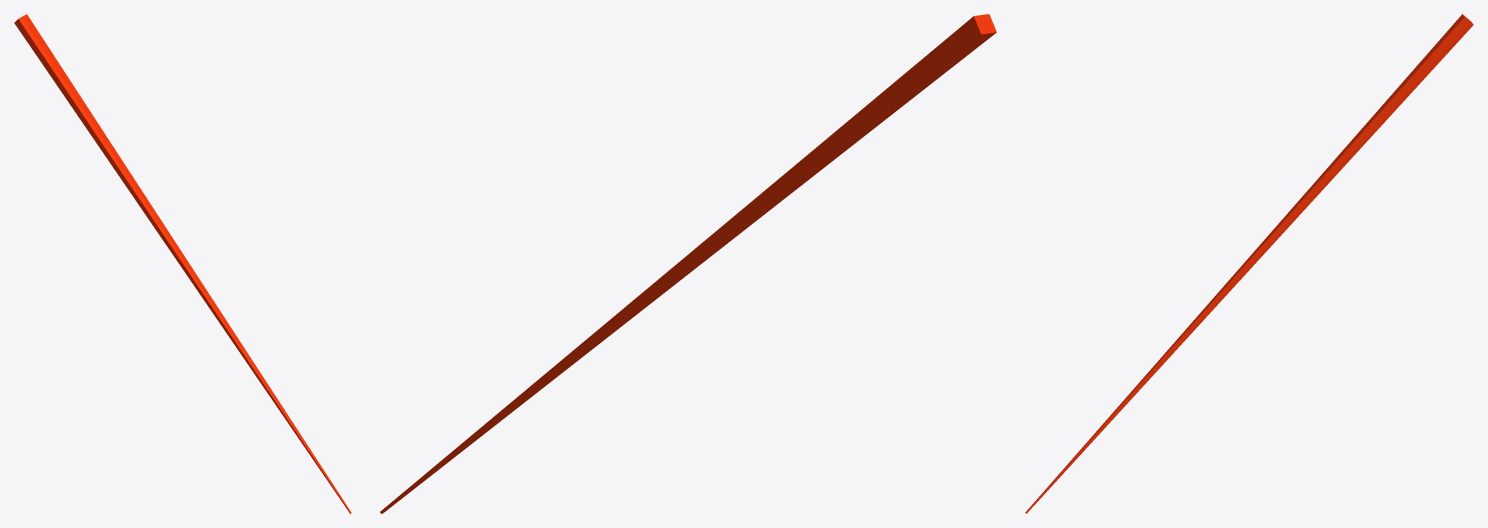
Rendered from Event_420094457_EBrechit_6.fbx.
3 views of the same model, side by side, from view 1: azimuth 30°, elevation 25°; view 2: azimuth 210°, elevation 25°; view 3: azimuth 270°, elevation 25° (orthographic). The views are drawn at different scales.
Visible parts, largest first — view 1: Model; view 2: Model; view 3: Model.
Part boxes in pixels (x1,y1,x2,y2): Model: [14, 14, 351, 513]; Model: [380, 14, 996, 513]; Model: [1025, 14, 1473, 513].
Bounding box in the file's own units: 6.66 × 18 × 17.07.
